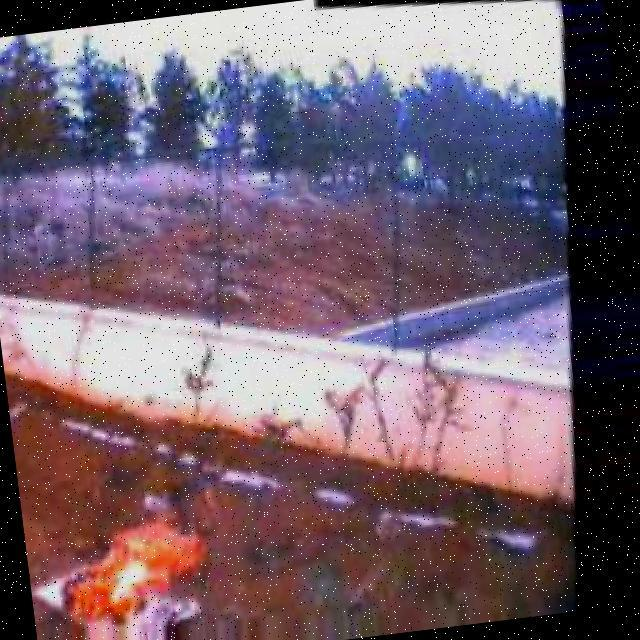Fire: (55, 501, 222, 621)
